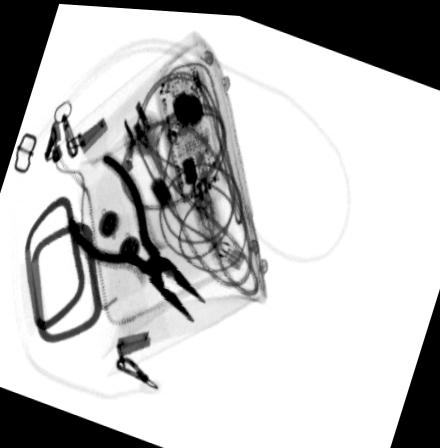Pliers: (64, 150, 206, 322)
